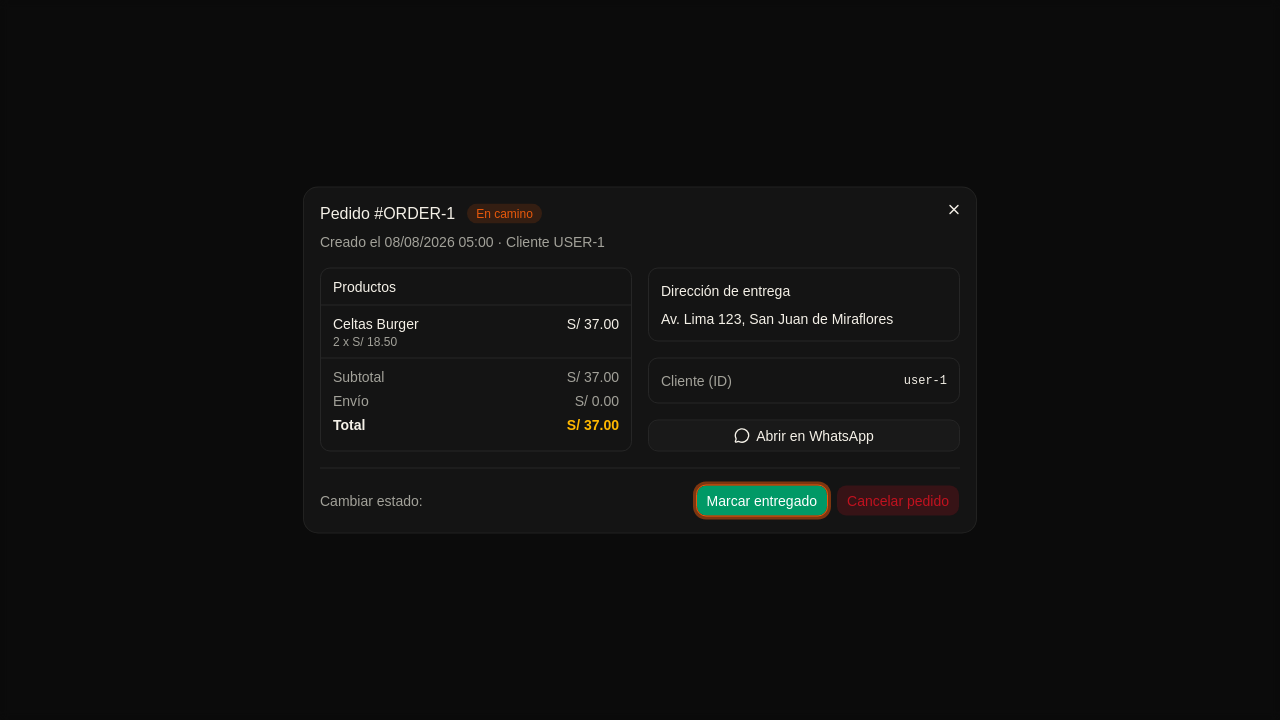
Test case: OrderDetailDialog — cancelar pedido con motivo obligatorio › el contador de caracteres arranca en 0/500 y se actualiza al escribir
Click the button "Cancelar pedido". click: (898, 500)
box: x1=836 y1=484 x2=960 y2=516
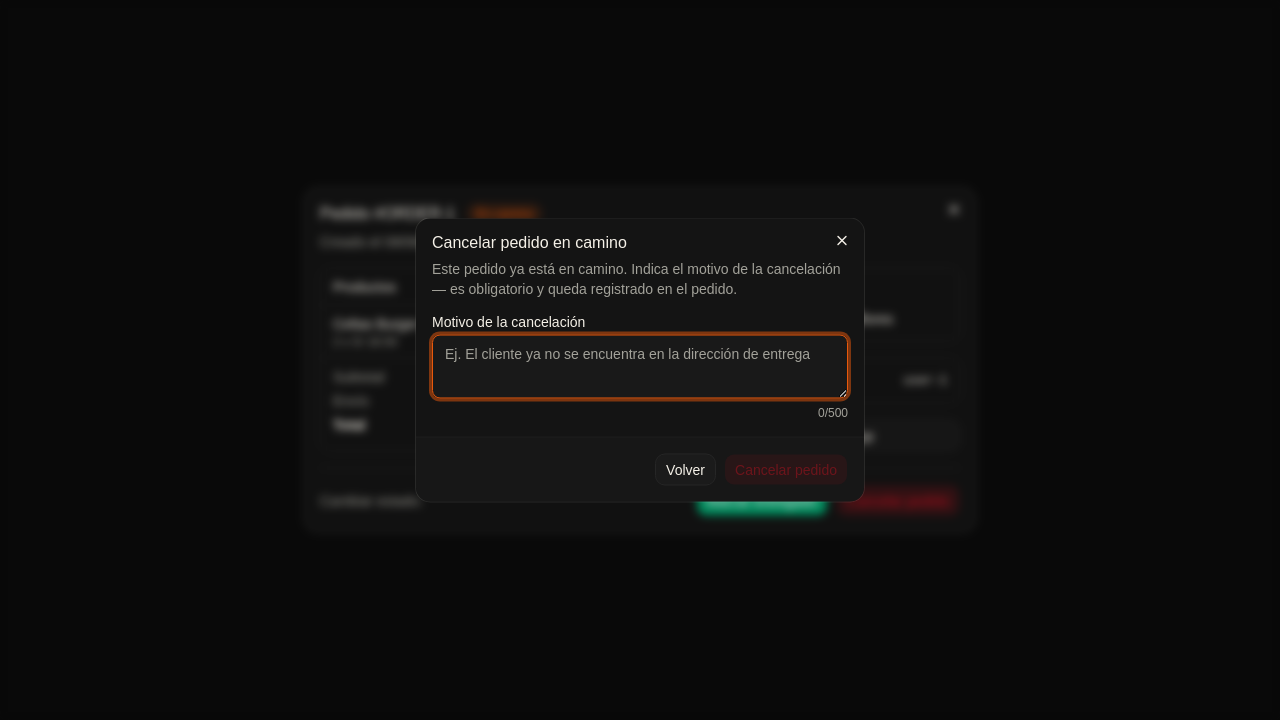
Expected: the text "0/500" is shown, x1=818 y1=406 x2=848 y2=420
Type "abc" into the text box labelled "Motivo de la cancelación". click: (640, 366)
box: x1=432 y1=334 x2=848 y2=398
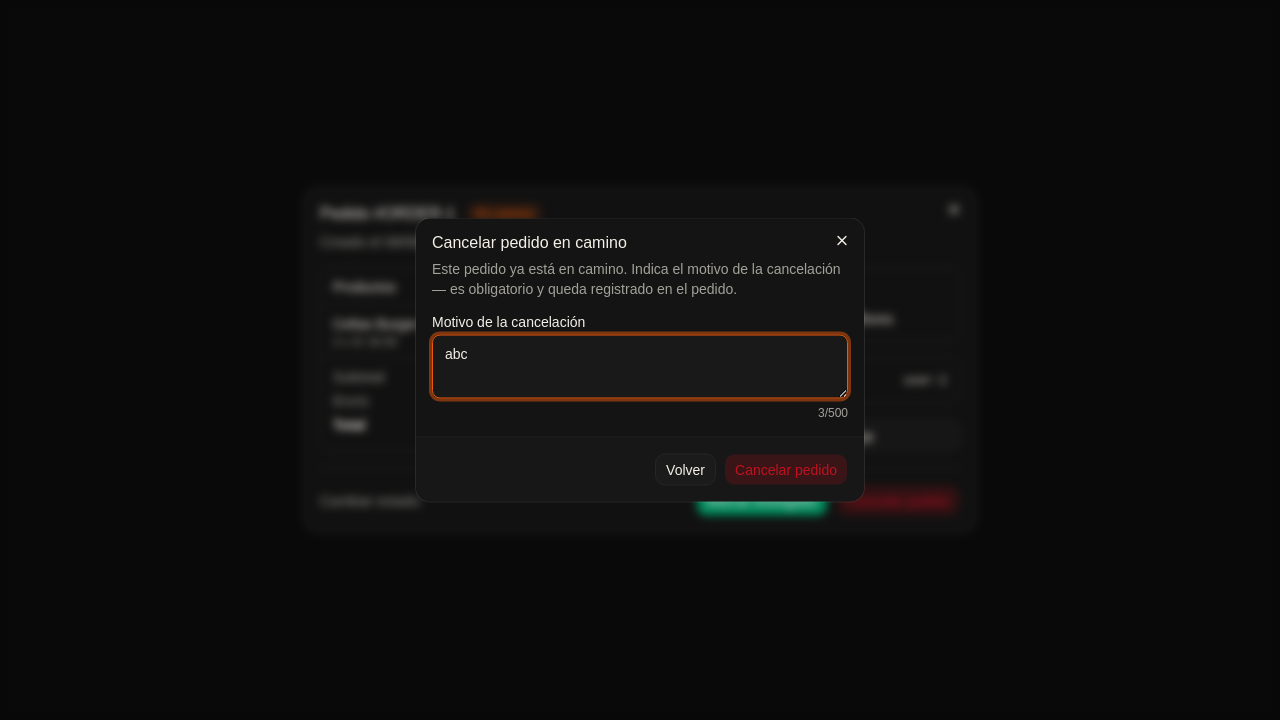
Expected: the text "3/500" is shown, x1=818 y1=406 x2=848 y2=420
